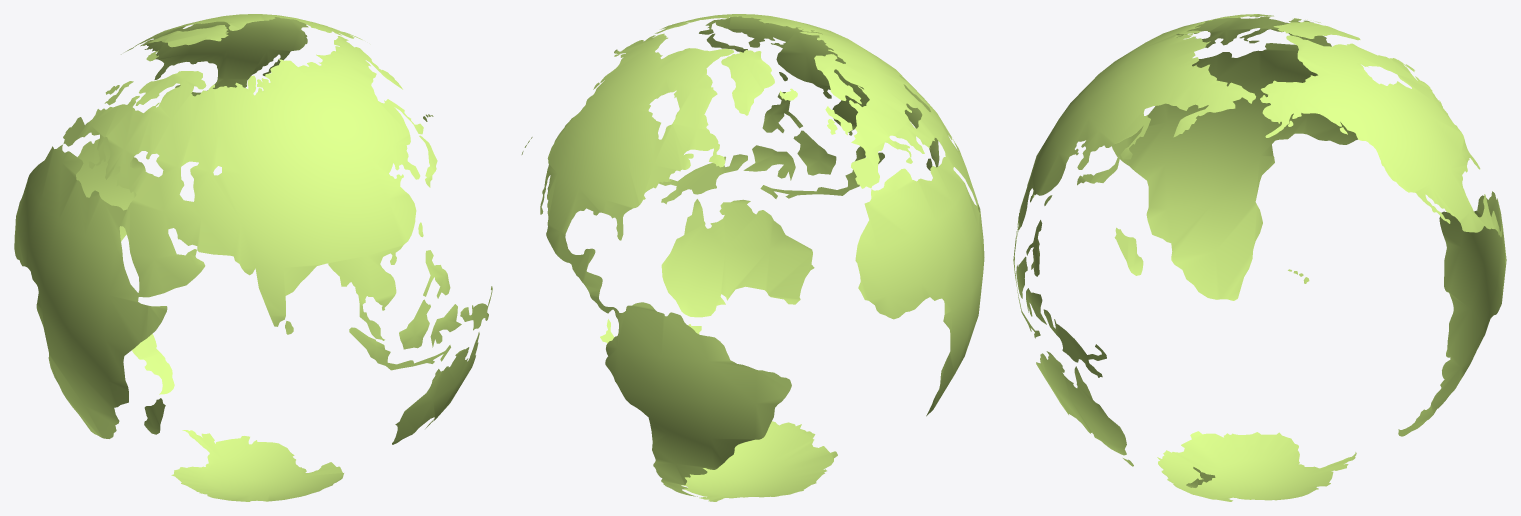
The model's file is earth2.dae.
The picture shows the model from 3 angles, left to right: view 1: azimuth 30°, elevation 25°; view 2: azimuth 150°, elevation 25°; view 3: azimuth 270°, elevation 25°; orthographic projection.
Visible parts, largest first — view 1: Model; view 2: Model; view 3: Model.
Part boxes in pixels (left/top/right/bottom): Model: left=14, top=14, right=492, bottom=501; Model: left=521, top=14, right=984, bottom=501; Model: left=1013, top=14, right=1506, bottom=501.
Size of the model in its own units: 962 by 1000 by 995.
